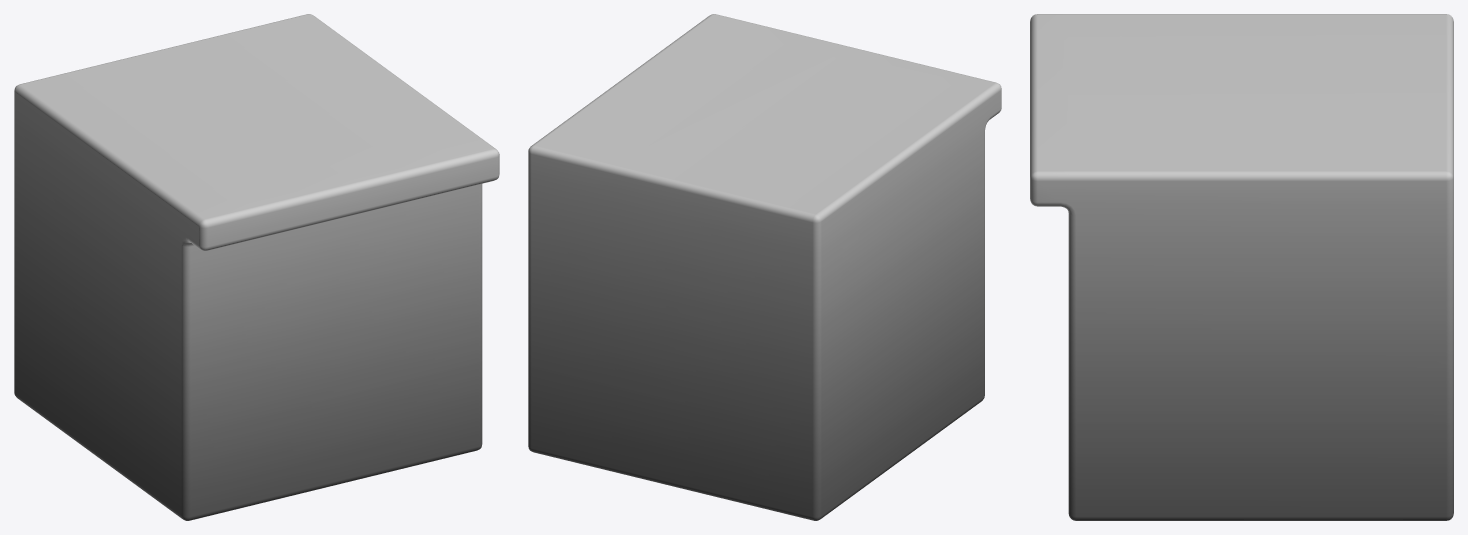
File: HH_Counter_1UnitS.fbx
3 views of the same model, side by side, from view 1: azimuth 30°, elevation 25°; view 2: azimuth 150°, elevation 25°; view 3: azimuth 270°, elevation 25° (orthographic). The views are drawn at different scales.
Visible parts, largest first — view 1: Counter_2Unit.001; view 2: Counter_2Unit.001; view 3: Counter_2Unit.001.
Boxes of the visible parts, x1=… form: Counter_2Unit.001: x1=14, y1=14, x2=499, y2=520; Counter_2Unit.001: x1=528, y1=14, x2=1001, y2=520; Counter_2Unit.001: x1=1030, y1=14, x2=1453, y2=520.
Size of the model in its own units: 100 by 100 by 110.
Materials: 1 (1 with a texture image).
